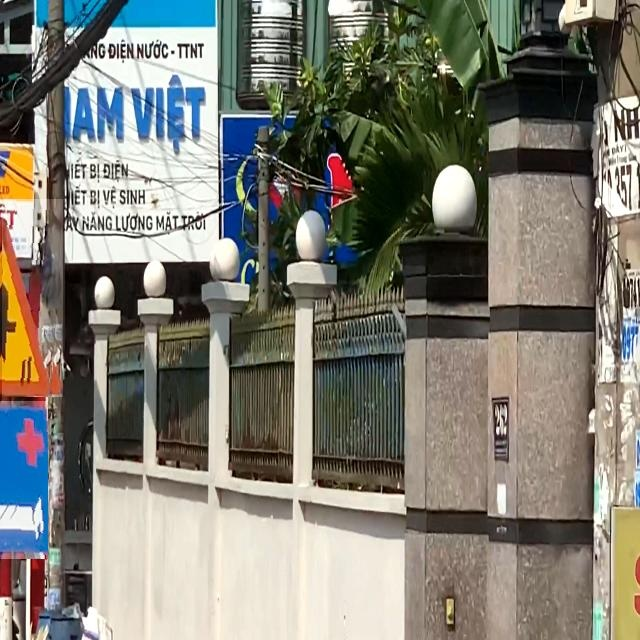bien_nguy_hiem: (2, 199, 63, 397), (0, 401, 48, 559)
